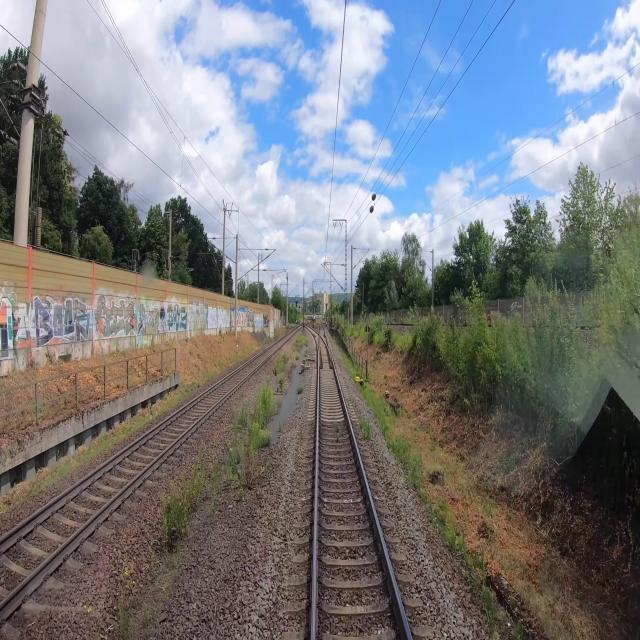Plant: (208, 380, 280, 511), (161, 456, 206, 549), (117, 569, 134, 639), (291, 331, 308, 353), (273, 352, 288, 376), (359, 417, 372, 440), (84, 601, 93, 615), (276, 376, 283, 393), (297, 384, 303, 393), (295, 354, 299, 360)
